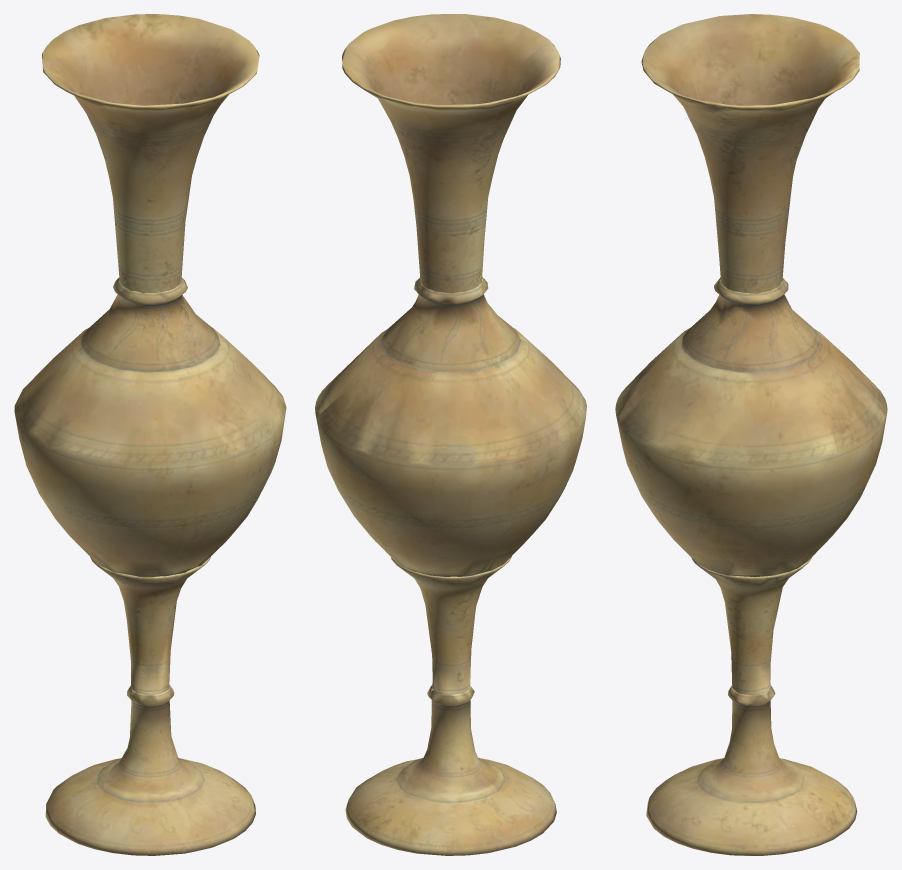
The model's file is brassvase.glb.
3 renders of one model, left to right at view 1: azimuth 30°, elevation 25°; view 2: azimuth 150°, elevation 25°; view 3: azimuth 270°, elevation 25°, orthographic.
Visible parts, largest first — view 1: brass_vase_01; view 2: brass_vase_01; view 3: brass_vase_01.
Part boxes in pixels (<box>): brass_vase_01: <box>14,14,286,855</box>; brass_vase_01: <box>315,14,586,855</box>; brass_vase_01: <box>615,14,887,855</box>.
Bounding box in the file's own units: 0.2272 × 0.6925 × 0.2272.
Materials: 1 (1 with a texture image).
